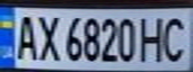0: (118, 14, 139, 63)
2: (100, 14, 121, 63)
6: (60, 12, 84, 63)
8: (81, 14, 103, 63)
A: (9, 11, 39, 61)
C: (157, 12, 193, 63)
H: (136, 12, 169, 63)
X: (33, 11, 60, 62)
